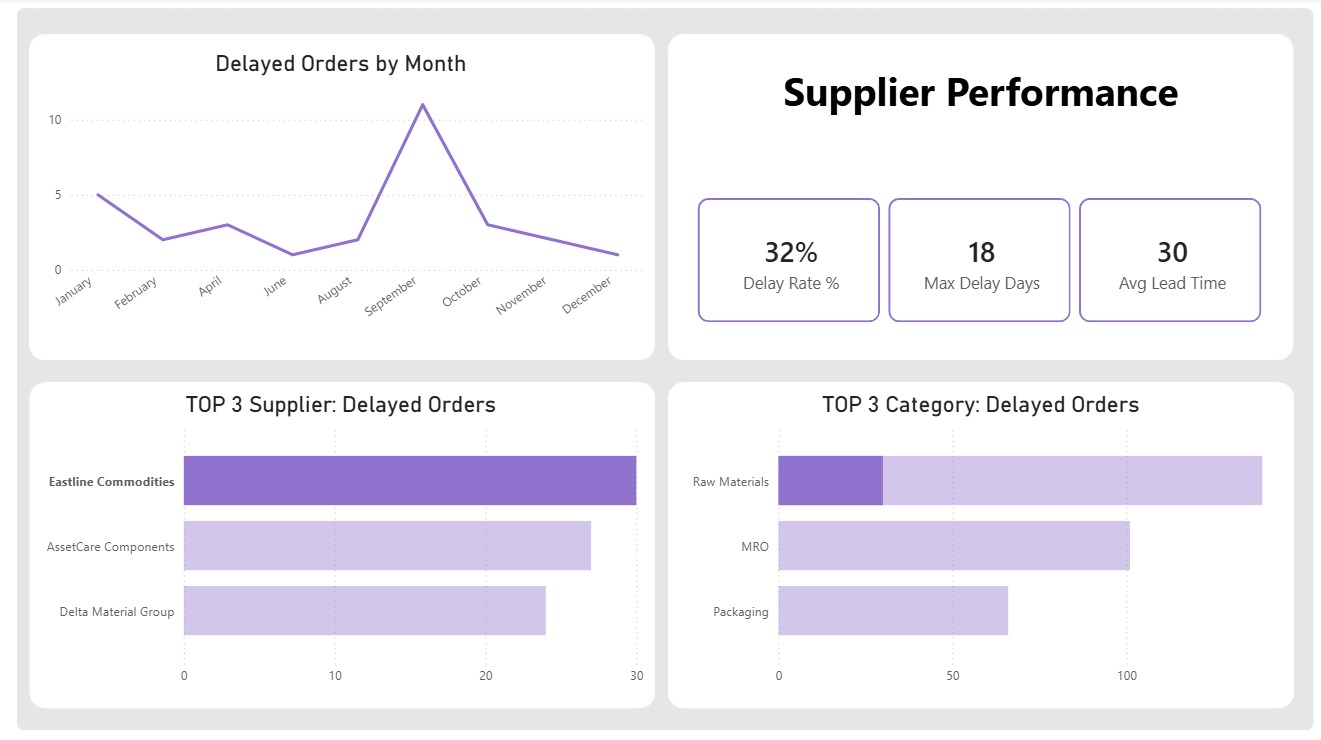

Layout of this report page (visuals, bound fields, positions):
{"tool":"powerbi","page":{"name":"Supplier Perfomance","canvas":[1280,720],"ordinal":1},"visuals":[{"type":"barChart","title":"TOP 3 Supplier: Delayed Orders","fields":{"Category":["dim_suppliers.supplier_name"],"Y":["fact_purchase_orders.Delayed Lines"]},"box":[32.6,380,594.8,292],"z":4000},{"type":"barChart","title":"TOP 3 Category: Delayed Orders","fields":{"Category":["dim_products.category"],"Y":["fact_purchase_orders.Delayed Lines"]},"box":[657.5,380,580.3,292],"z":5000},{"type":"lineChart","title":"Delayed Orders by Month","fields":{"Category":["dim_date.month_name"],"Y":["fact_purchase_orders.Delayed Lines"]},"box":[32.6,50.7,594.8,279.9],"z":7001},{"type":"textbox","box":[657.5,59.1,580.3,82],"z":7002},{"type":"cardVisual","fields":{"Data":["fact_purchase_orders.Delay Rate %","fact_purchase_orders.Max Delay Days","fact_purchase_orders.Avg Lead Time"]},"box":[657.5,176.1,580.3,154.4],"z":7003}]}

Visuals, with their boxes in screenshot pixels (x1, y1, x2, y2), scaled from the page's 1280x720 canvas onto the 1321x740 screenshot:
"TOP 3 Supplier: Delayed Orders" barChart: pyautogui.locateOnScreen(34, 391, 647, 691)
"TOP 3 Category: Delayed Orders" barChart: pyautogui.locateOnScreen(679, 391, 1277, 691)
"Delayed Orders by Month" lineChart: pyautogui.locateOnScreen(34, 52, 647, 340)
textbox: pyautogui.locateOnScreen(679, 61, 1277, 145)
cardVisual - fact_purchase_orders.Delay Rate % x fact_purchase_orders.Max Delay Days: pyautogui.locateOnScreen(679, 181, 1277, 340)
